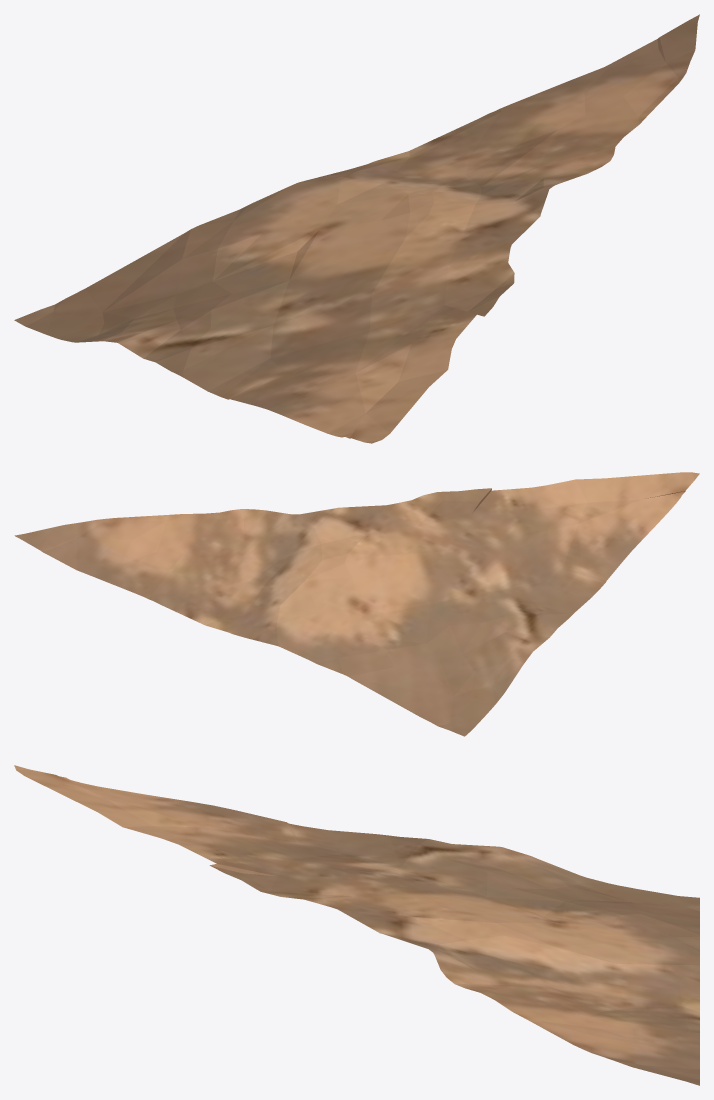
3 views of the same model, one above another, from view 1: azimuth 30°, elevation 25°; view 2: azimuth 150°, elevation 25°; view 3: azimuth 270°, elevation 25° (orthographic). The views are drawn at different scales.
Bounding box in the file's own units: 0.518 × 0.0999 × 0.468.
Materials: 1 (1 with a texture image).
